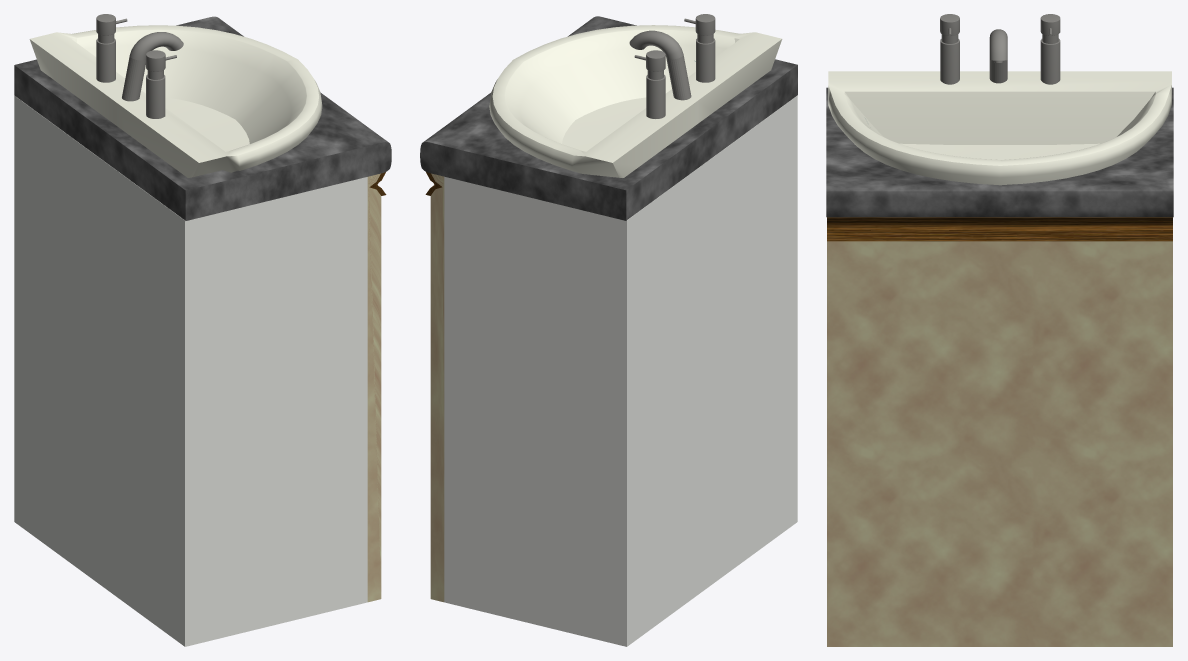
Rendered from KitchenSink.FBX.
3 views of the same model, side by side, from view 1: azimuth 30°, elevation 25°; view 2: azimuth 150°, elevation 25°; view 3: azimuth 270°, elevation 25° (orthographic).
Parts seen in each view (by area): view 1: Box002, Box006, Cylinder005, Cylinder003, Cylinder001; view 2: Box002, Box006, Cylinder005, Cylinder001, Cylinder003; view 3: Box002, Box006, Cylinder003, Cylinder001, Cylinder005.
Part boxes in pixels (x1,y1,x2,y2): Box002: (14, 16, 391, 646); Box006: (29, 25, 322, 177); Cylinder005: (122, 32, 183, 101); Cylinder003: (96, 14, 115, 82); Cylinder001: (146, 50, 165, 118); Box002: (420, 16, 797, 646); Box006: (489, 25, 782, 177); Cylinder005: (629, 30, 691, 100); Cylinder001: (695, 14, 715, 82); Cylinder003: (646, 50, 665, 118); Box002: (826, 87, 1173, 646); Box006: (828, 71, 1171, 185); Cylinder003: (1040, 14, 1060, 84); Cylinder001: (940, 14, 959, 84); Cylinder005: (989, 29, 1007, 83).
Bounding box in the file's own units: 21.61 × 54.11 × 31.13.
Materials: 7 (6 with a texture image).
